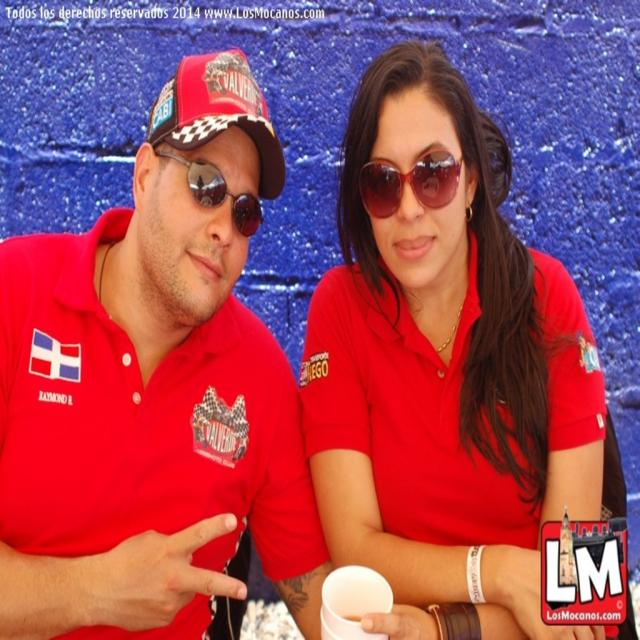Hat: (148, 46, 286, 202)
